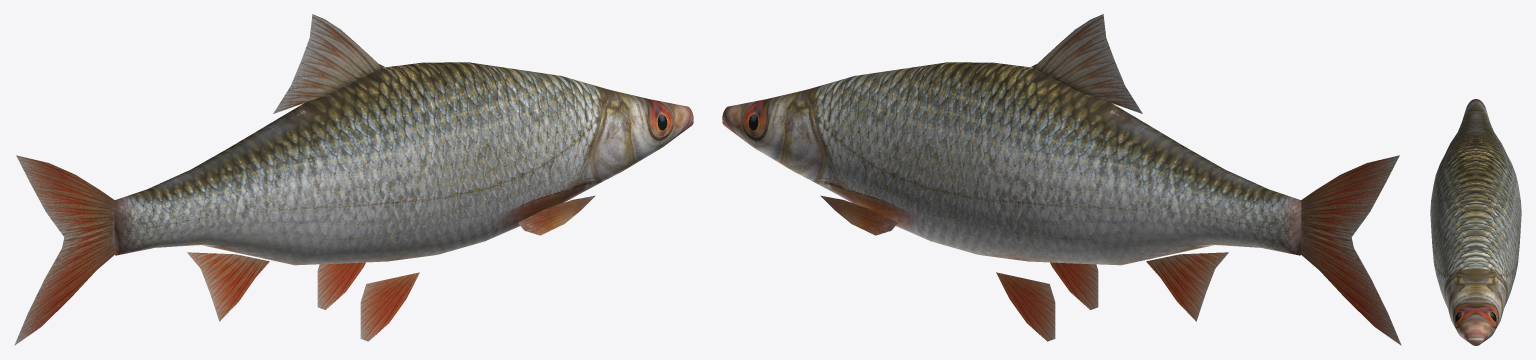
File: roach.glb
The picture shows the model from 3 angles, left to right: view 1: azimuth 30°, elevation 25°; view 2: azimuth 150°, elevation 25°; view 3: azimuth 270°, elevation 25°; orthographic projection. The views are drawn at different scales.
Parts seen in each view (by area): view 1: roach_realistic; view 2: roach_realistic; view 3: roach_realistic.
Part boxes in pixels (bbox=[...]): roach_realistic: bbox=[14, 14, 693, 345]; roach_realistic: bbox=[722, 14, 1401, 345]; roach_realistic: bbox=[1430, 99, 1521, 345].
Size of the model in its own units: 0.9786 by 0.4439 by 0.16.
1 material, 1 textured.
